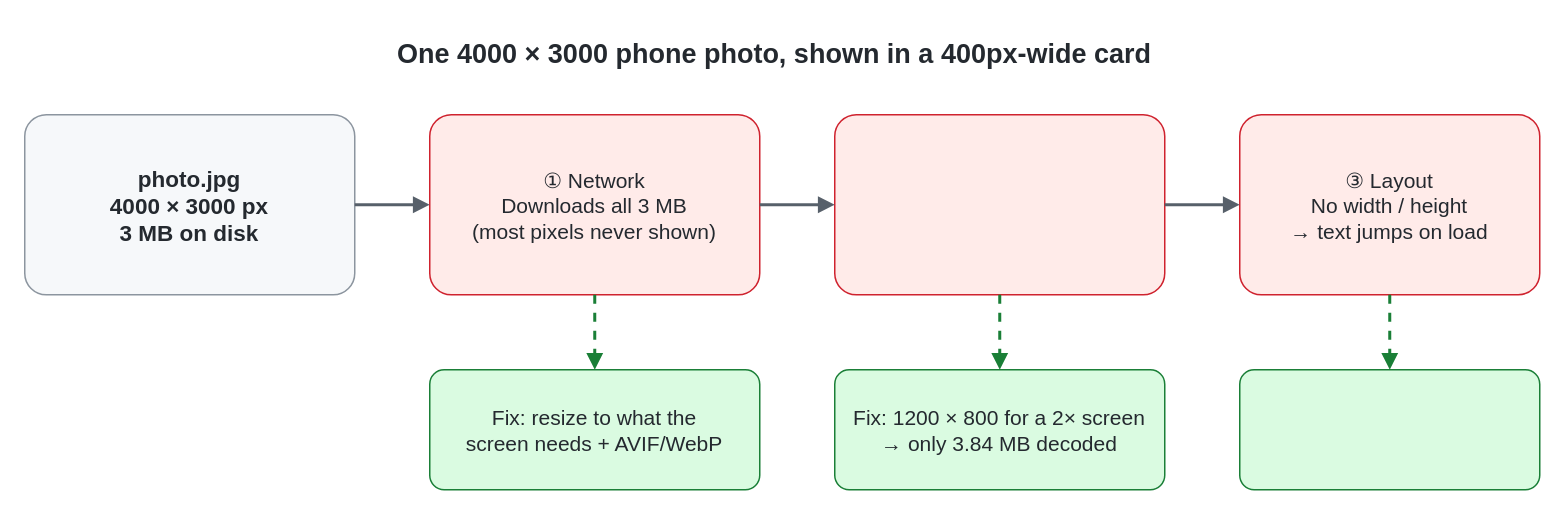
The diagram is 1565 pixels wide and 515 high, and some of its shapes have lost their labels. The box of each missing label's shape, as (x1, y1, x2, y2) in pixels:
Fix: add width + height → space is reserved: (1238, 368, 1540, 490)
② Memory Decoded: 4000 × 3000 × 4 ≈ 48 MB of RAM: (833, 113, 1165, 295)
